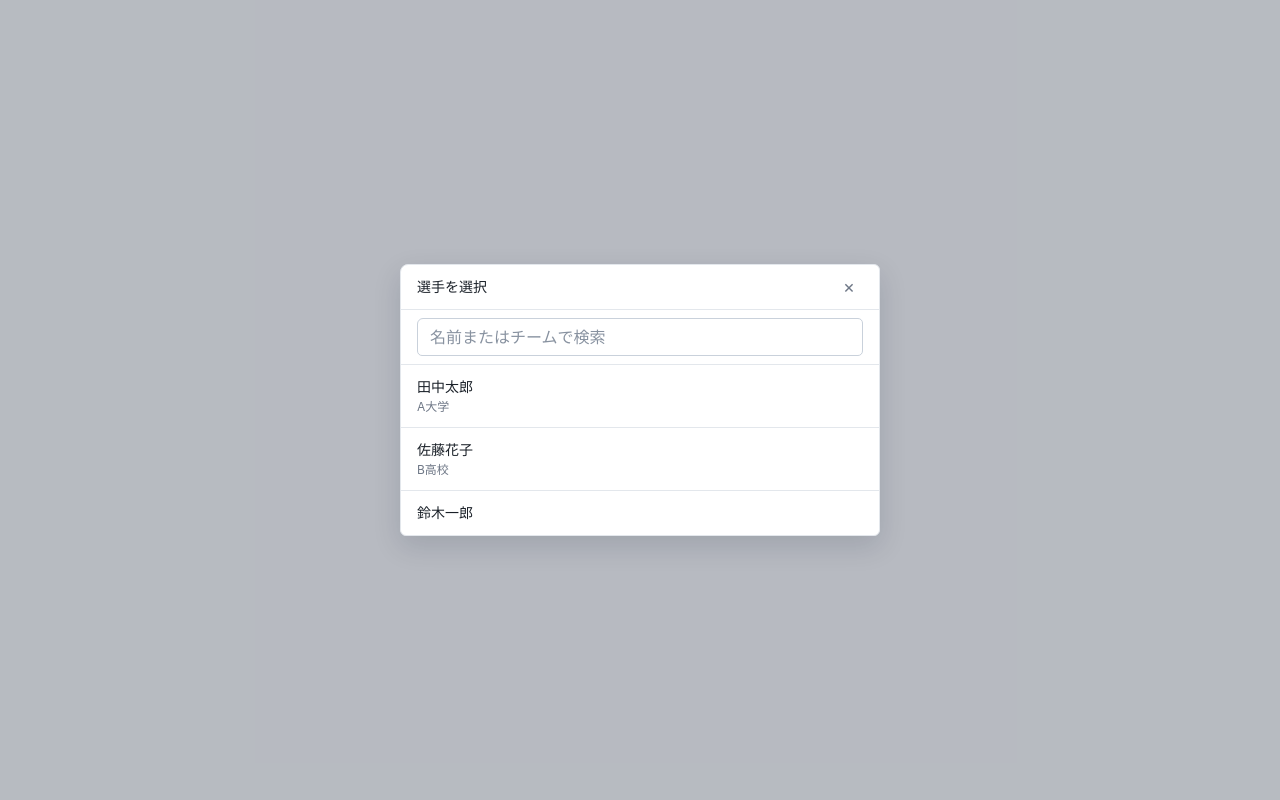
Test case: PlayerSelectorSheet › 検索でフィルタされる (チーム名一致)
In the search field: (640, 337) [417,318,863,356], type "B高校"
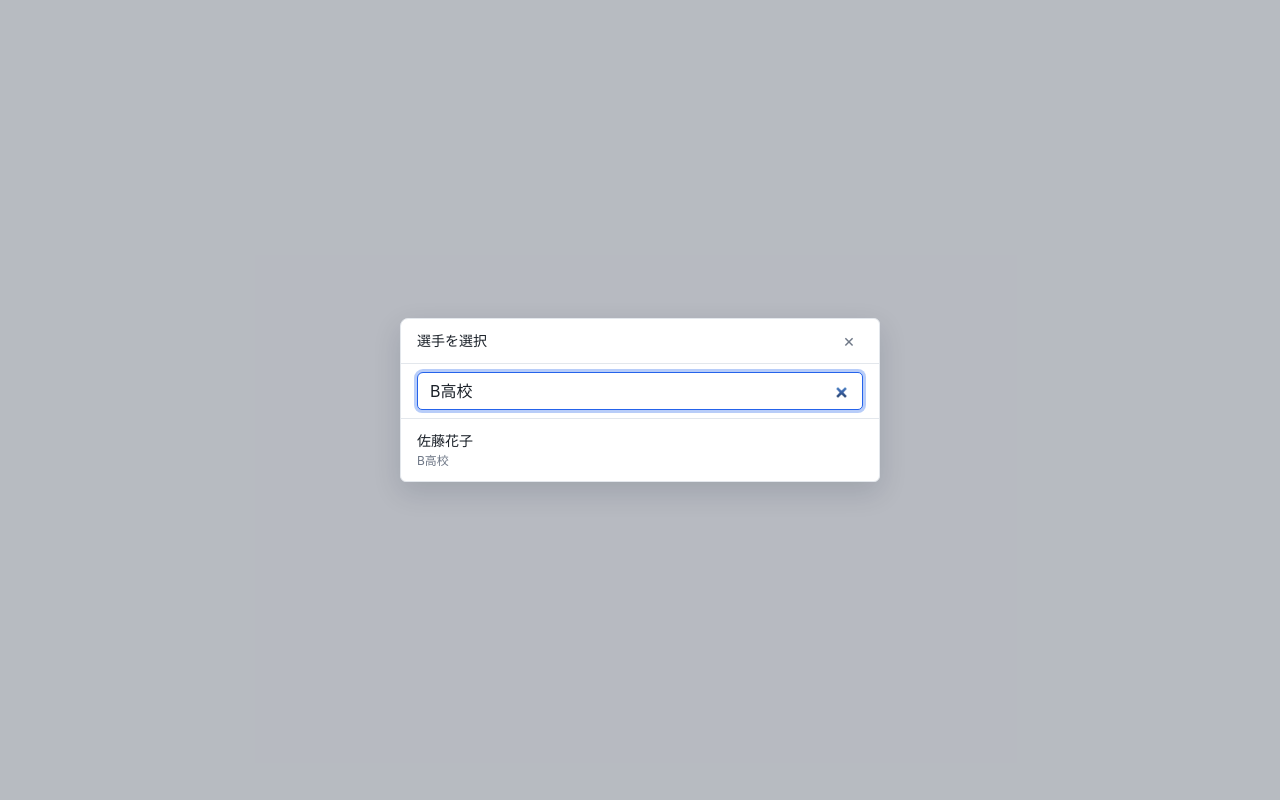
expect the text "佐藤花子" is shown: met, box [417,431,473,451]
expect the button "田中太郎" is gone: met
